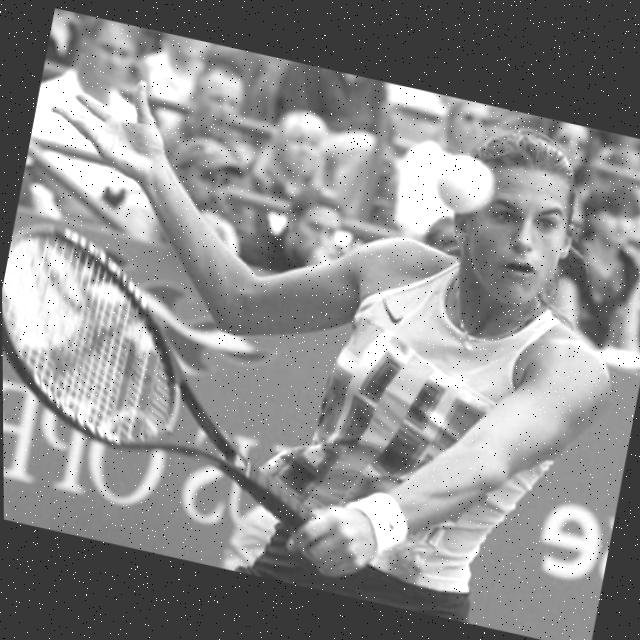face: (438, 133, 587, 330), (167, 140, 246, 227), (278, 191, 357, 276), (180, 61, 250, 147), (72, 19, 141, 102), (265, 110, 334, 187), (579, 184, 640, 266)
